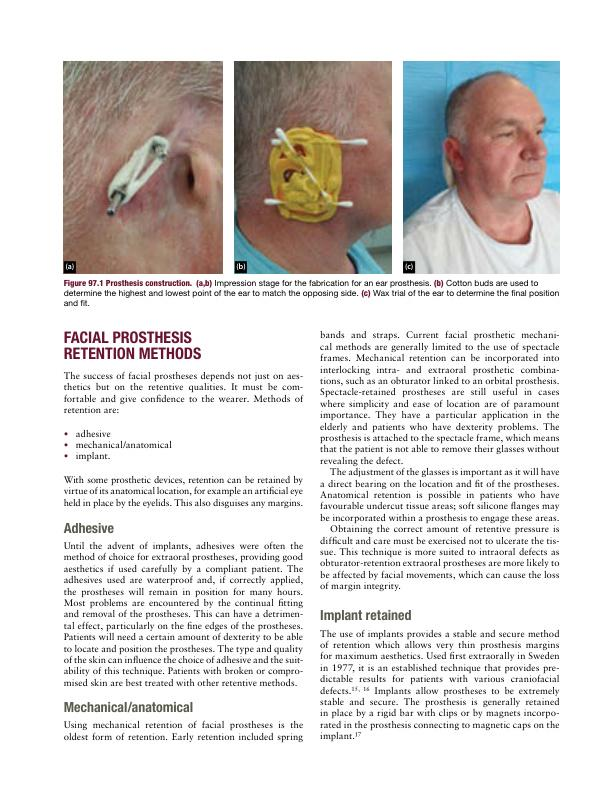caption: (62, 278, 560, 309), (65, 262, 75, 271), (236, 262, 246, 271), (404, 262, 414, 271)
image: (62, 59, 224, 275), (402, 59, 561, 275), (233, 59, 392, 274)
list: (63, 428, 173, 463)
section-heading: (63, 329, 203, 361)
sub-section-heading: (63, 701, 194, 714), (319, 609, 412, 624), (63, 521, 115, 535)
text: (318, 329, 561, 593), (63, 540, 304, 688), (318, 629, 561, 743), (63, 370, 305, 416), (62, 474, 304, 510), (62, 719, 304, 744)
